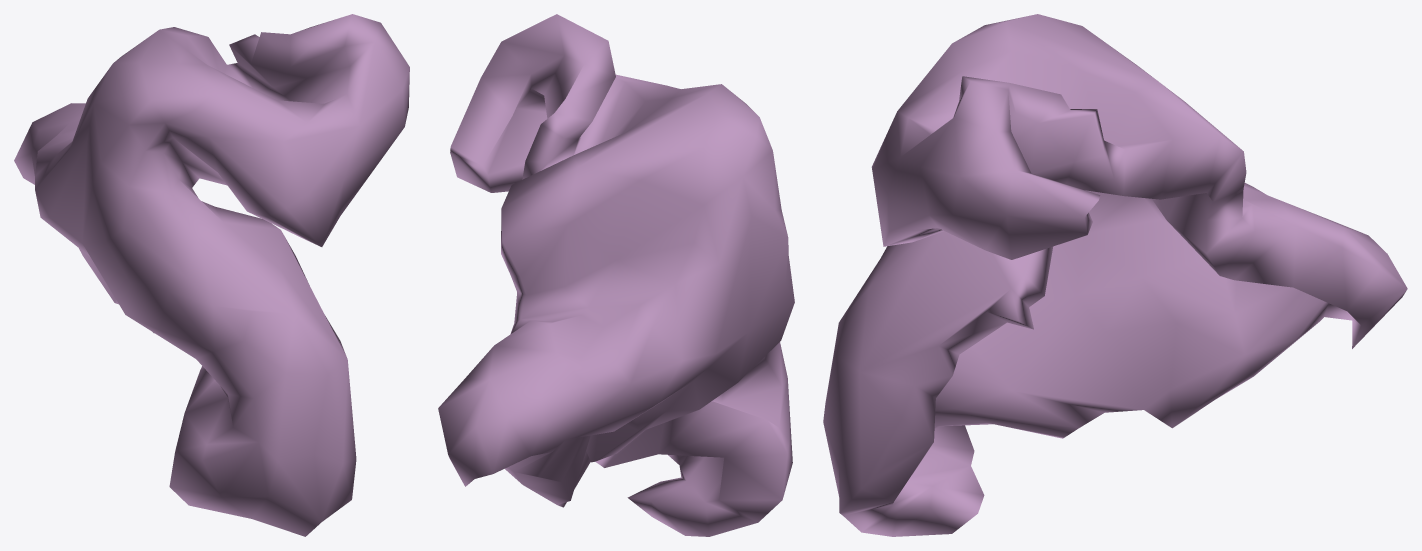
The picture shows the model from 3 angles, left to right: view 1: azimuth 30°, elevation 25°; view 2: azimuth 150°, elevation 25°; view 3: azimuth 270°, elevation 25°; orthographic projection. The views are drawn at different scales.
Parts seen in each view (by area): view 1: 左侧中央旁回与中央旁沟; view 2: 左侧中央旁回与中央旁沟; view 3: 左侧中央旁回与中央旁沟.
Part boxes in pixels (<box>): 左侧中央旁回与中央旁沟: <box>14,14,409,536</box>; 左侧中央旁回与中央旁沟: <box>438,14,794,536</box>; 左侧中央旁回与中央旁沟: <box>823,14,1407,536</box>.
Bounding box in the file's own units: 0.0352 × 0.0529 × 0.0553.
